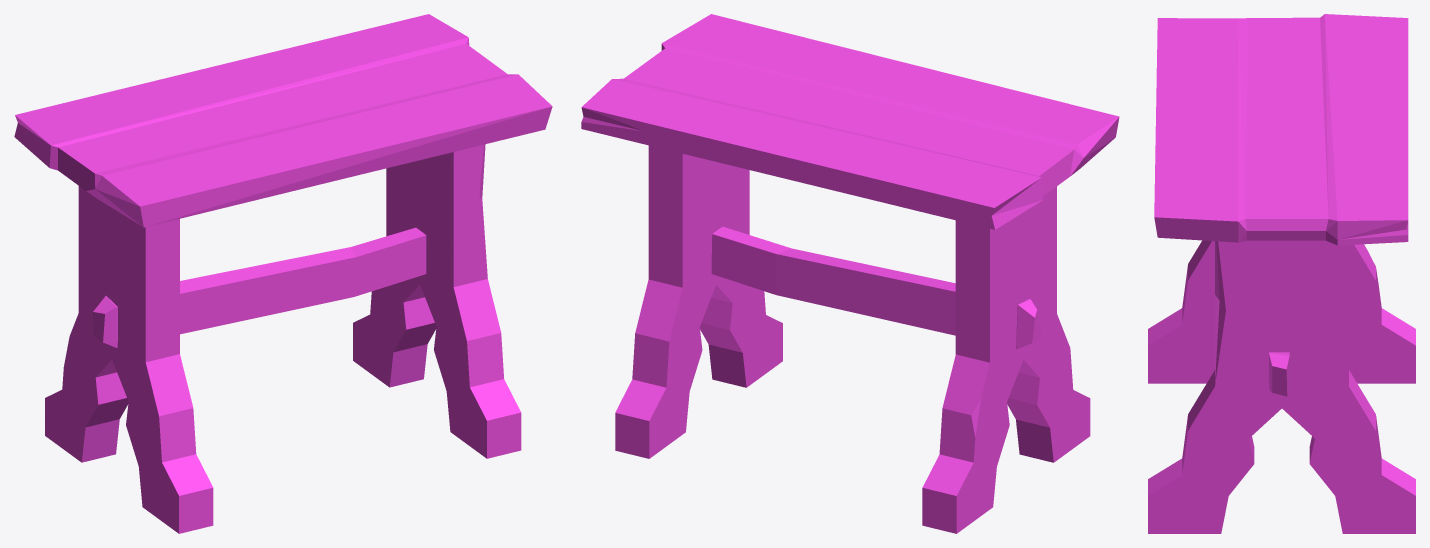
Rendered from SM_Stool_Wooden_B_Fantasy.fbx.
The picture shows the model from 3 angles, left to right: view 1: azimuth 30°, elevation 25°; view 2: azimuth 150°, elevation 25°; view 3: azimuth 270°, elevation 25°; orthographic projection.
Visible parts, largest first — view 1: SM_Stool_Wooden_B_Fantasy; view 2: SM_Stool_Wooden_B_Fantasy; view 3: SM_Stool_Wooden_B_Fantasy.
Part boxes in pixels (box(x1,y1,x2,y2)): SM_Stool_Wooden_B_Fantasy: box(14, 14, 552, 533); SM_Stool_Wooden_B_Fantasy: box(581, 14, 1119, 533); SM_Stool_Wooden_B_Fantasy: box(1148, 14, 1415, 533).
Size of the model in its own units: 0.6681 by 0.5 by 0.3641.
